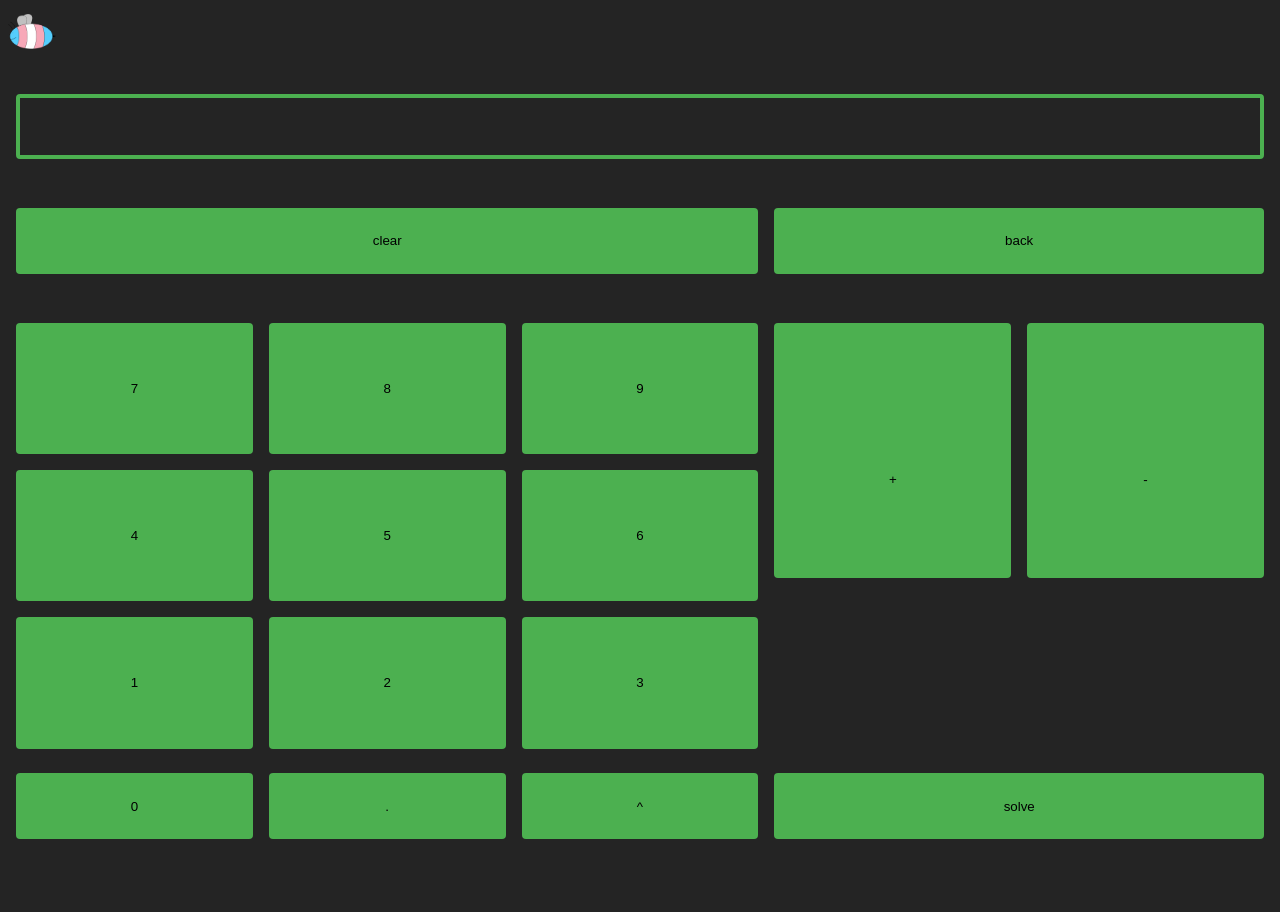
Test: loads and displays buttons
What coordinates should you click on to do the following:
click the button with test id "fourButton"
I would click on:
 (134, 536)
Its box is [16, 470, 253, 601].
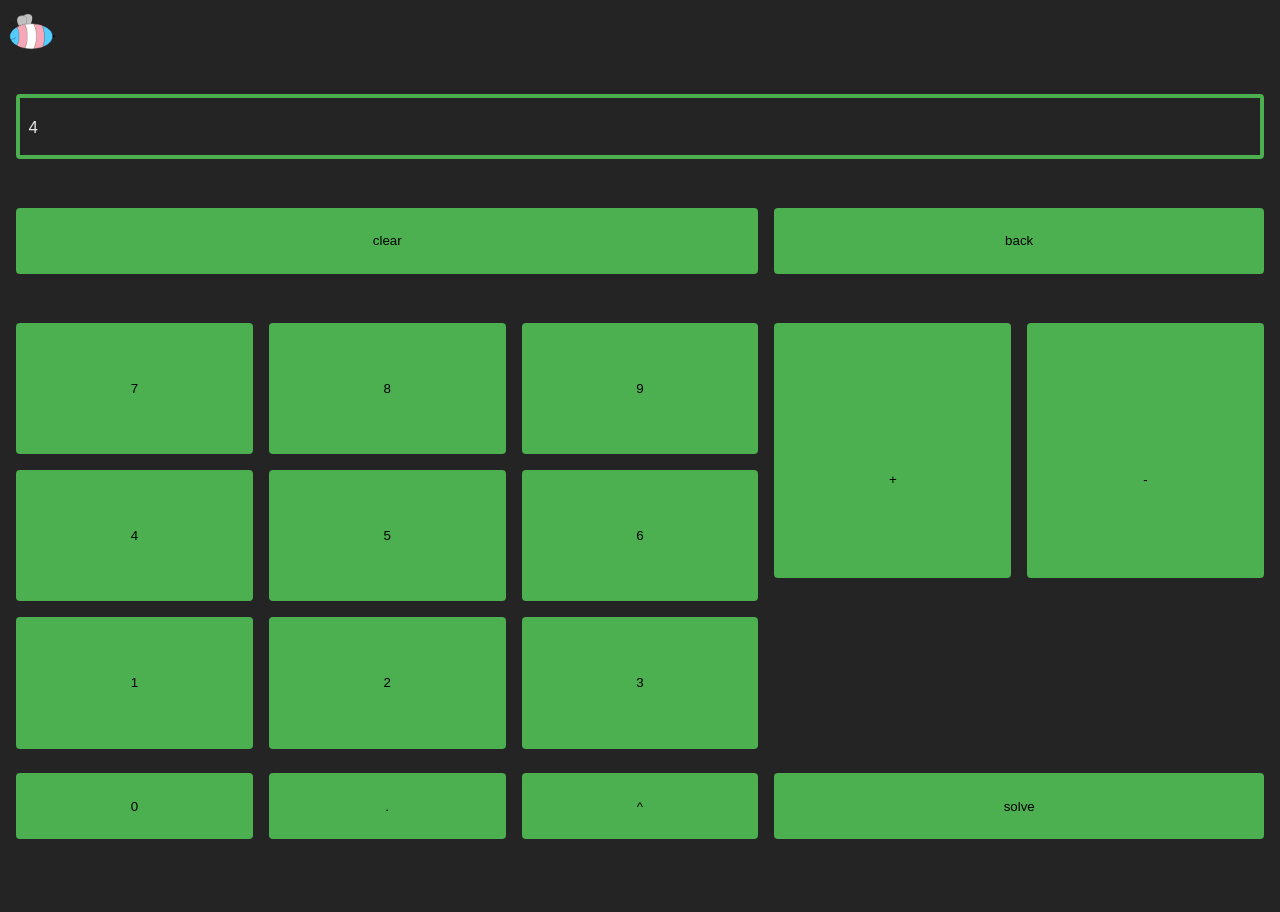
Result: the text with test id "answerArea" reads "4" at [28, 116, 38, 136]
What coordinates should you click on to do the following:
click the button with test id "addButton"
I would click on:
 (893, 479)
Its box is [774, 380, 1011, 578].
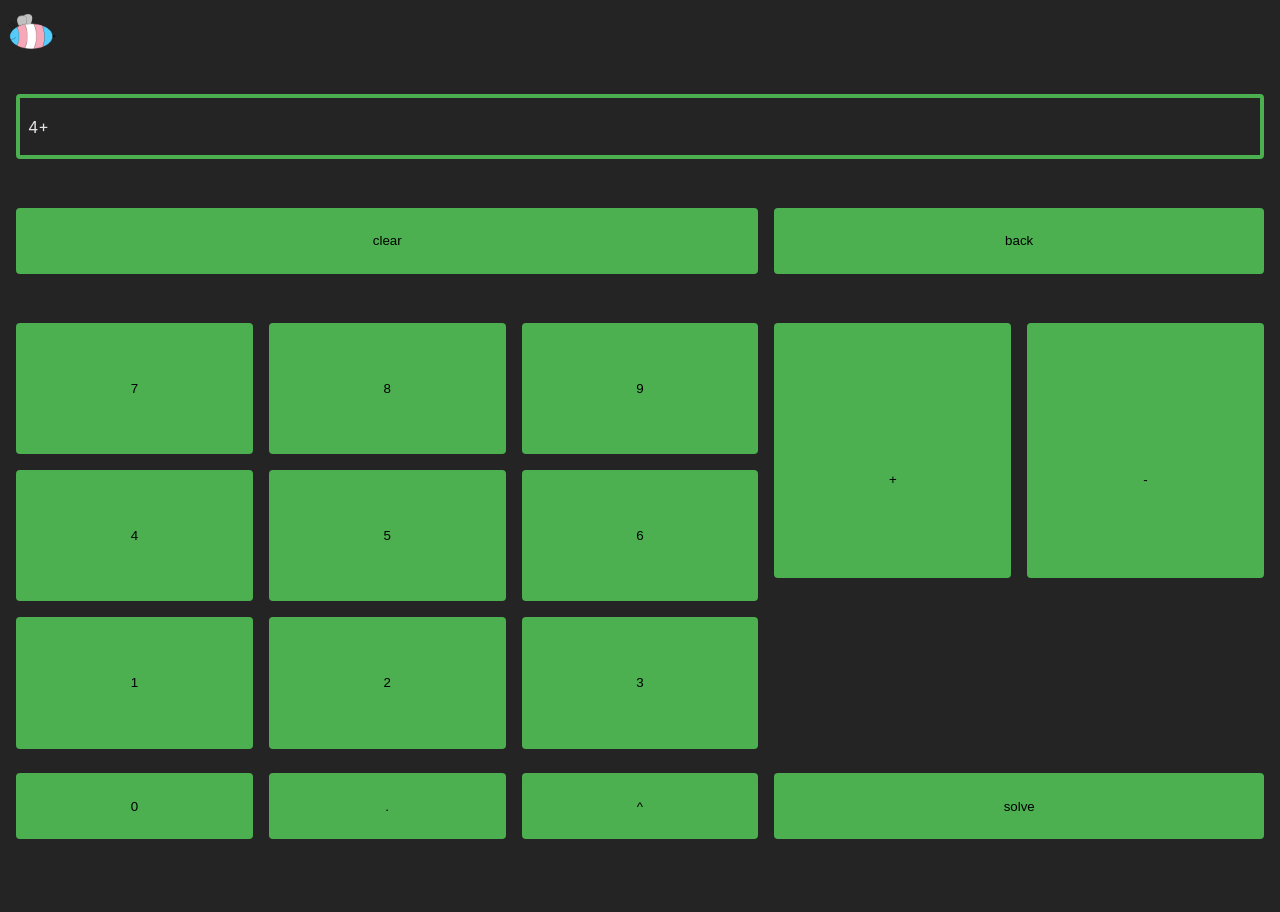
Result: the text with test id "answerArea" reads "4+" at [28, 116, 49, 136]
What coordinates should you click on to do the following:
click the button with test id "eightButton"
I would click on:
 (387, 388)
Its box is [269, 323, 506, 454].
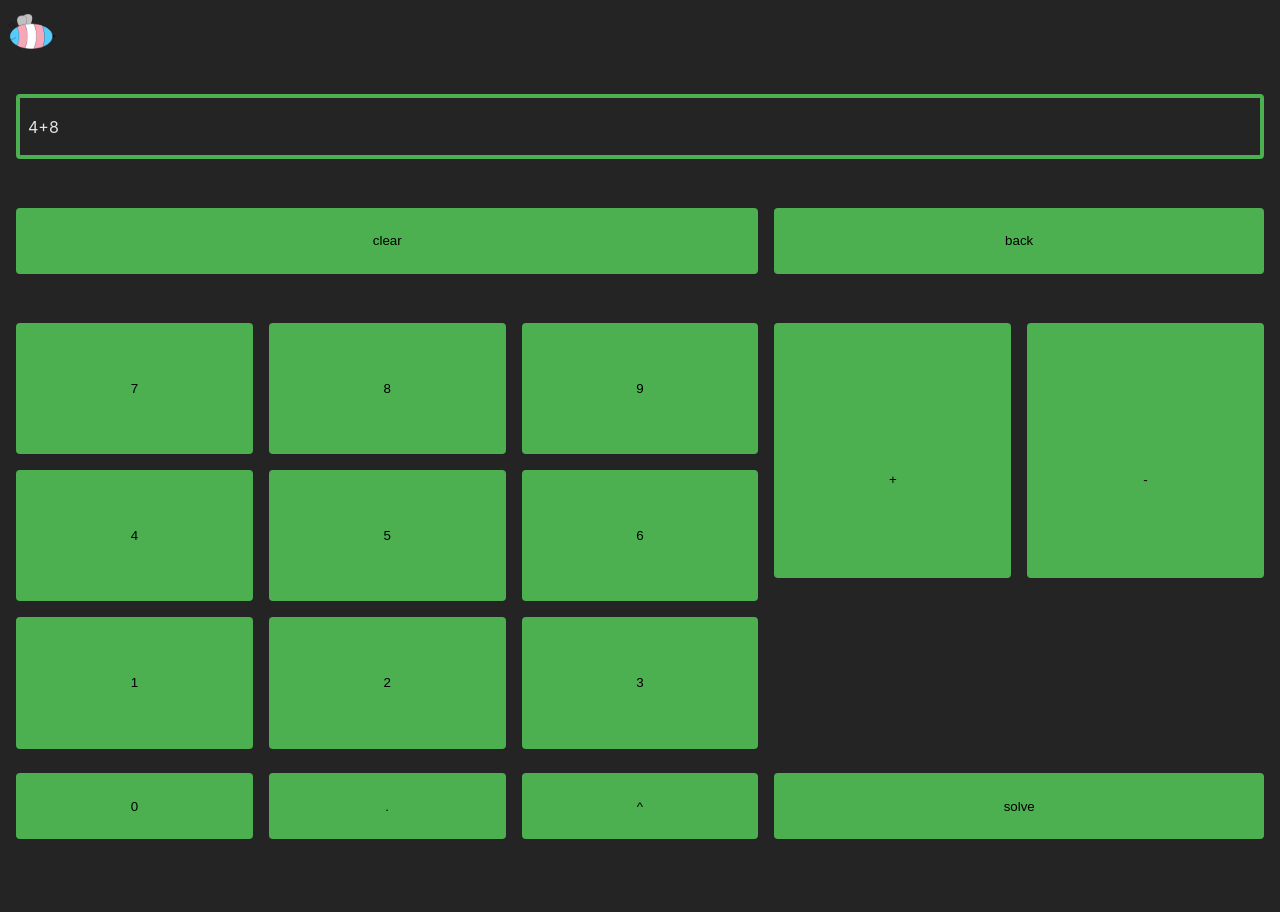
Result: the text with test id "answerArea" reads "4+8" at [28, 116, 59, 136]
What coordinates should you click on to do the following:
click the button with test id "solveButton"
I would click on:
 (1019, 806)
Its box is [774, 774, 1264, 839].
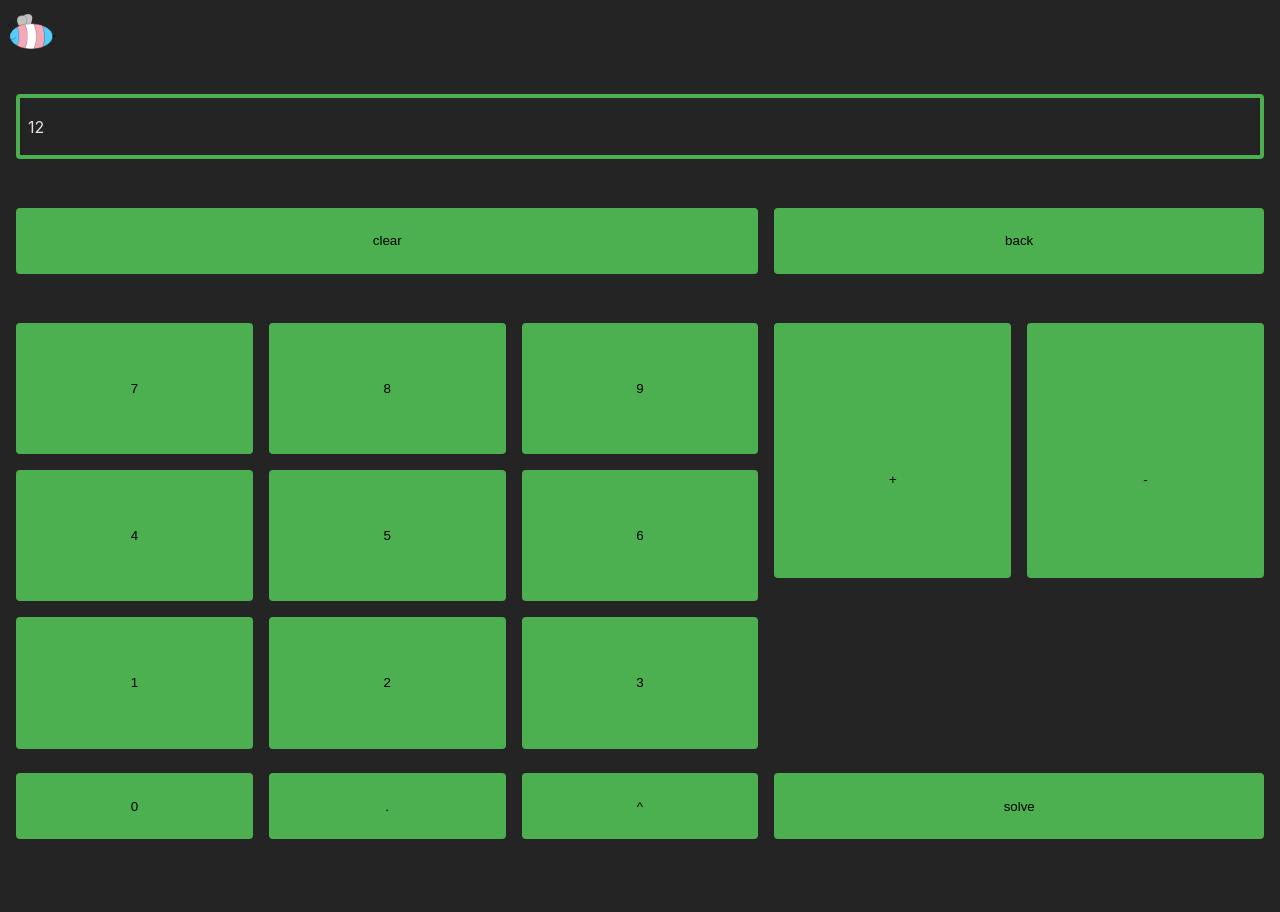
Result: the text with test id "answerArea" reads "12" at [28, 116, 44, 136]
